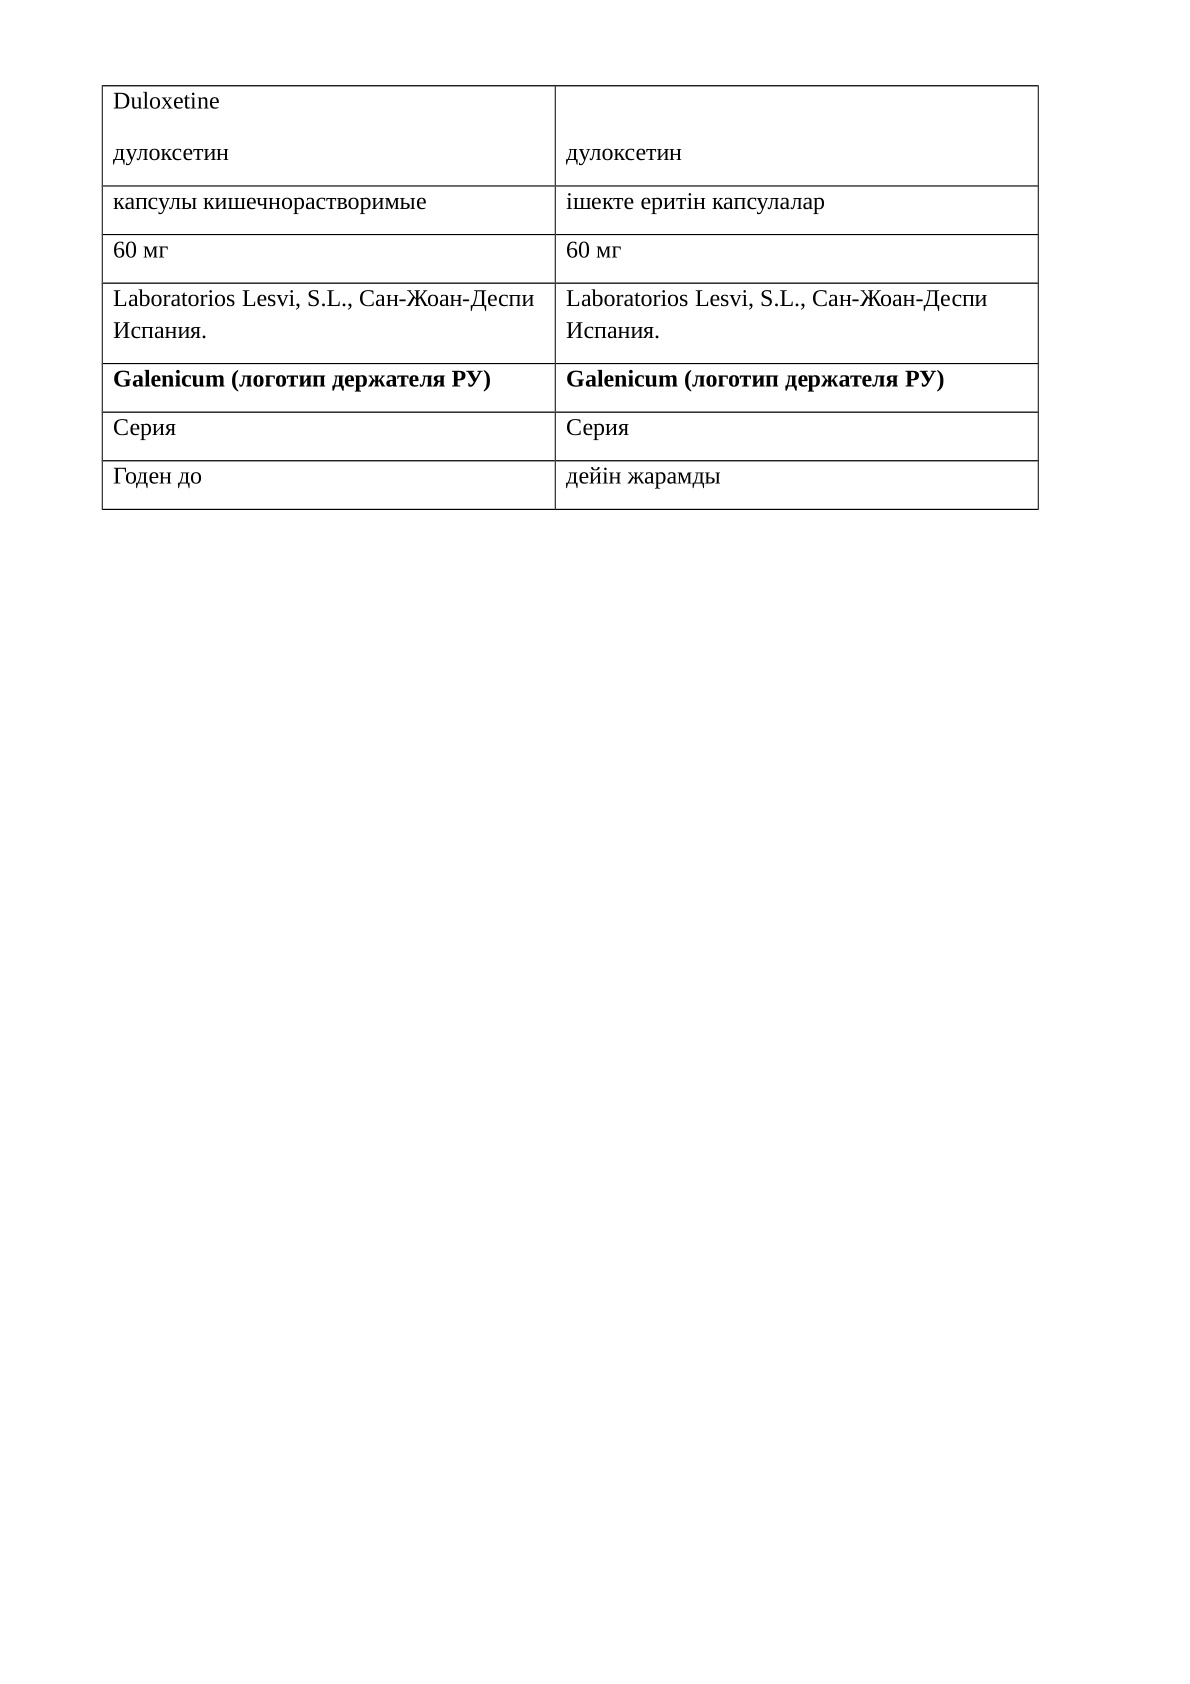full_lined: (100, 82, 1041, 511)
